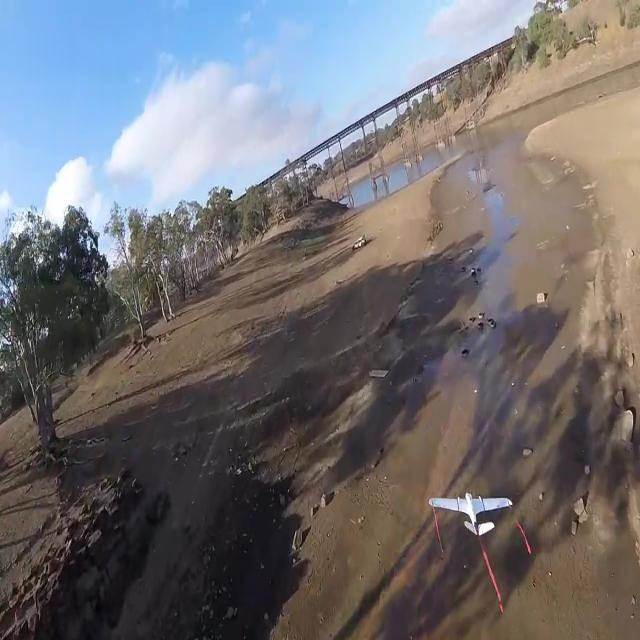iha: (460, 494, 482, 540)
